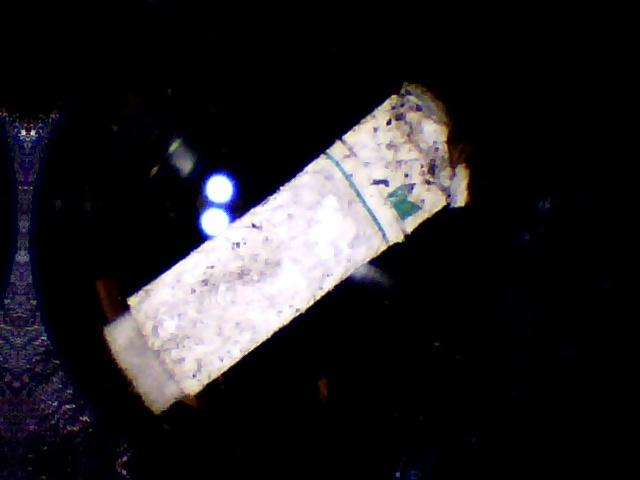megot: (96, 61, 479, 435)
